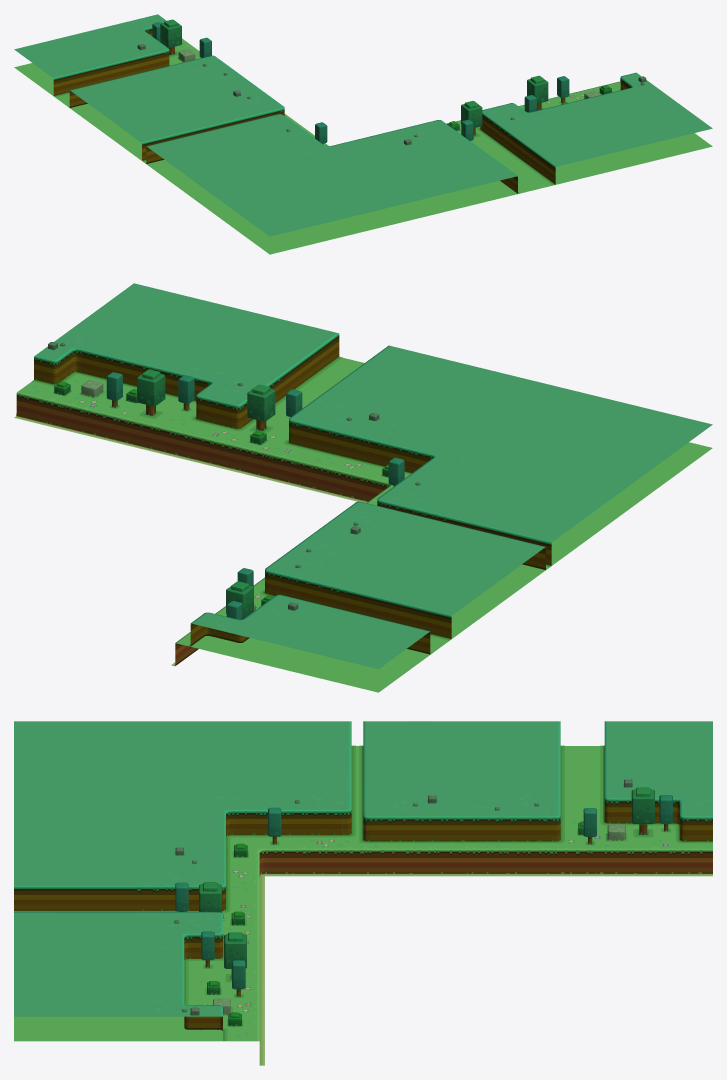
Rendered from C_grass1_out_RU.fbx.
3 renders of one model, top to bottom at view 1: azimuth 30°, elevation 25°; view 2: azimuth 150°, elevation 25°; view 3: azimuth 270°, elevation 25°, orthographic. The views are drawn at different scales.
Parts seen in each view (by area): view 1: C_grass1_out_RU; view 2: C_grass1_out_RU; view 3: C_grass1_out_RU.
Part boxes in pixels (left/top/right/bottom): C_grass1_out_RU: left=14, top=14, right=712, bottom=254; C_grass1_out_RU: left=14, top=283, right=712, bottom=692; C_grass1_out_RU: left=14, top=721, right=712, bottom=1065.
Size of the model in its own units: 117 by 12.59 by 117.
1 material, 1 textured.
